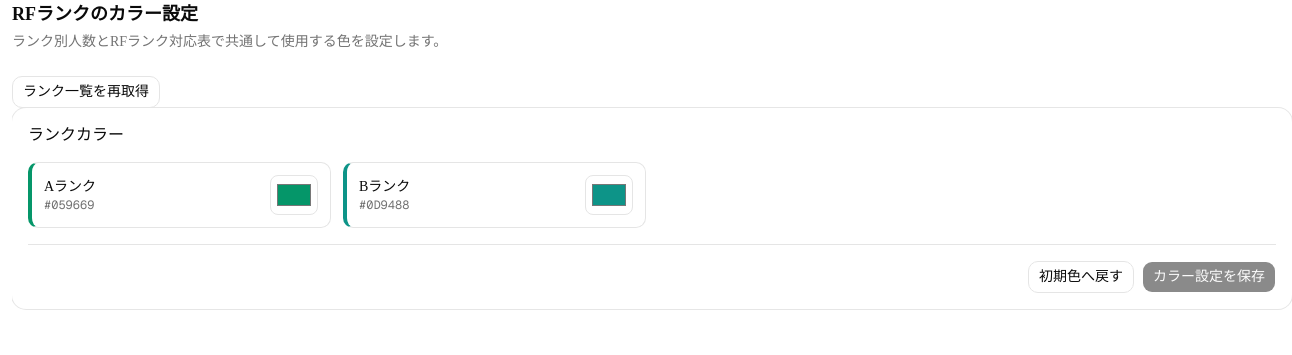
Test case: RfRankColorSettingsSection › ownerがRFランクの色を変更して保存できる
Expected: the button "カラー設定を保存" is disabled, [1142, 261, 1276, 293]
Type "#123456" into the colour field named "Aランクの表示色" at (294, 195), box [270, 175, 318, 215]
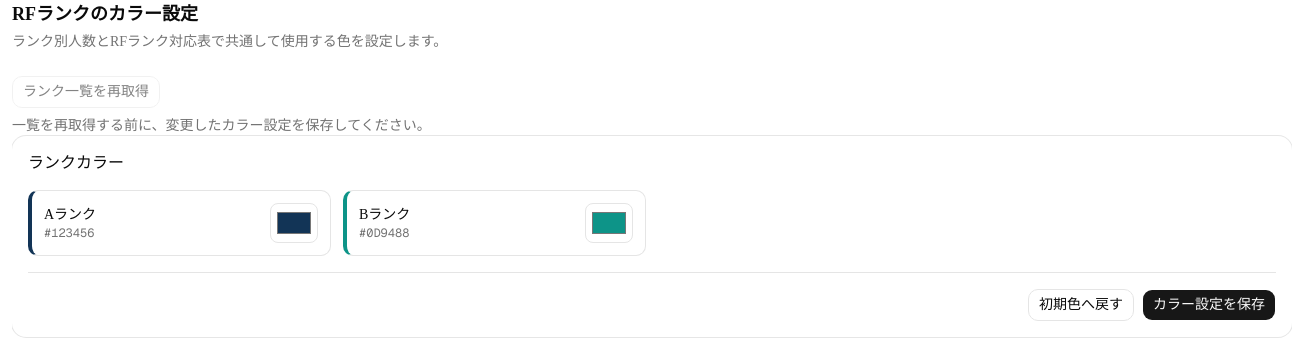
Result: the button "カラー設定を保存" is enabled
Click the button "カラー設定を保存" at (1209, 305), box [1142, 289, 1276, 321]
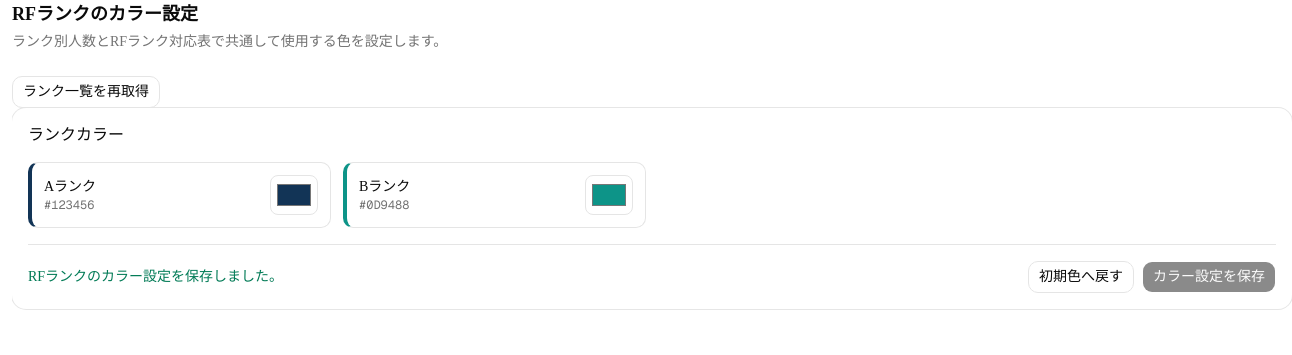
Result: the text "RFランクのカラー設定を保存しました。" is shown at [28, 267, 283, 287]
